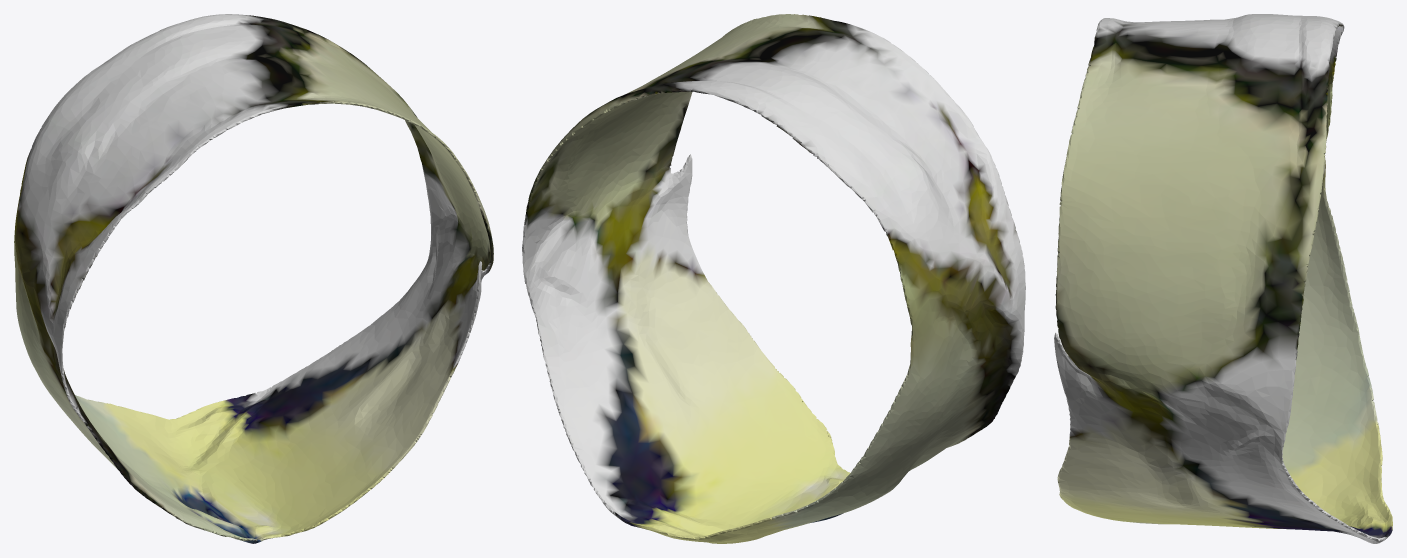
Rendered from ring_saint.glb.
3 views of the same model, side by side, from view 1: azimuth 30°, elevation 25°; view 2: azimuth 150°, elevation 25°; view 3: azimuth 270°, elevation 25° (orthographic). The views are drawn at different scales.
Parts seen in each view (by area): view 1: geometry_0; view 2: geometry_0; view 3: geometry_0.
Part boxes in pixels (x1,y1,x2,y2): geometry_0: [14, 14, 493, 543]; geometry_0: [522, 14, 1025, 543]; geometry_0: [1054, 14, 1392, 543].
Bounding box in the file's own units: 0.5938 × 0.5907 × 0.368.
